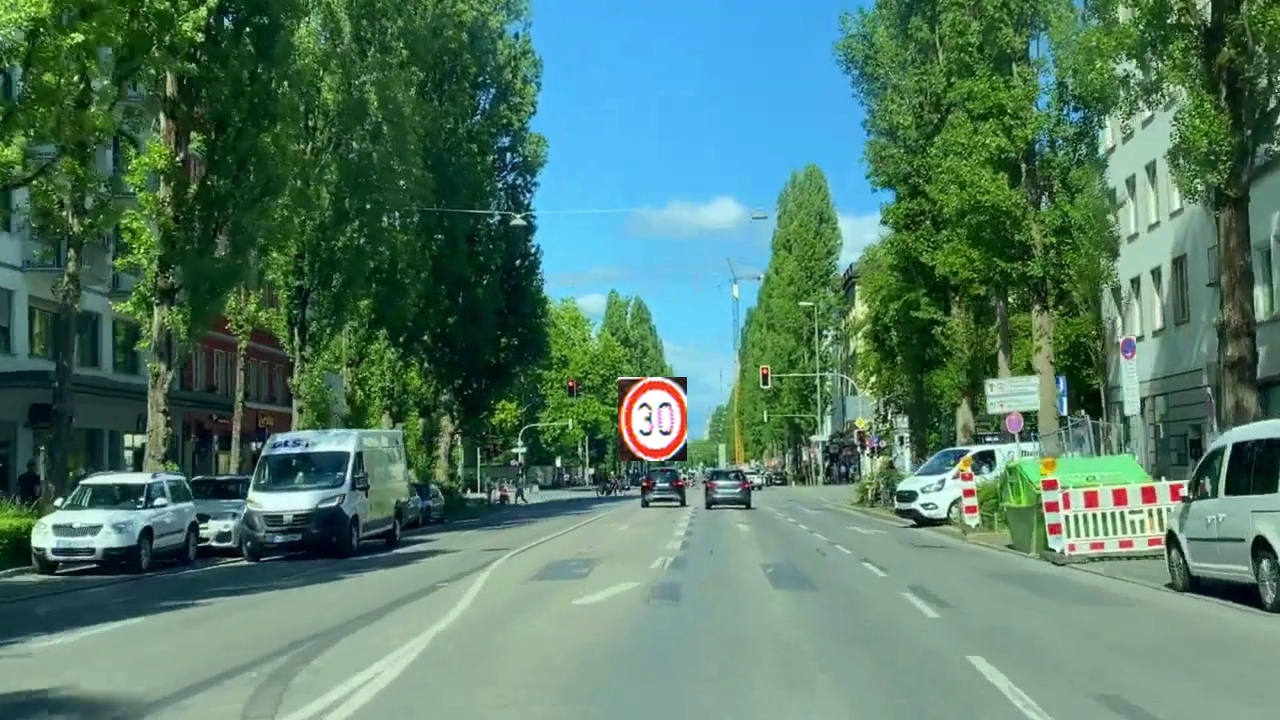Speed 30: (618, 377, 687, 461)
